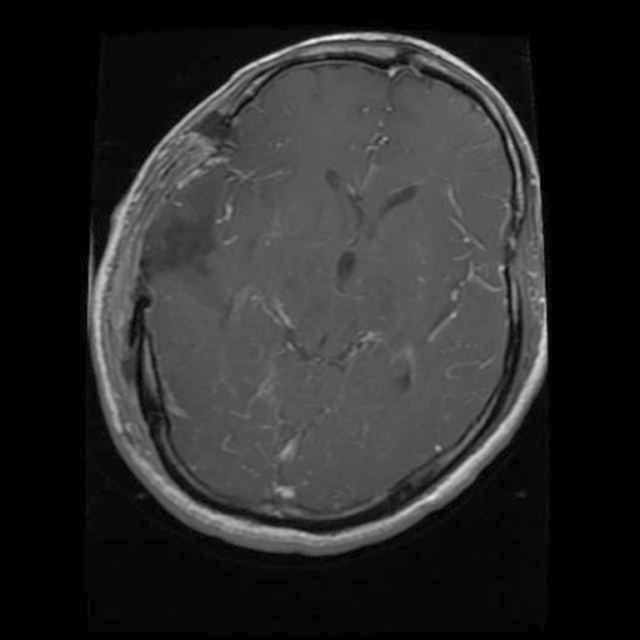pituitary tumor: (144, 198, 198, 292)
